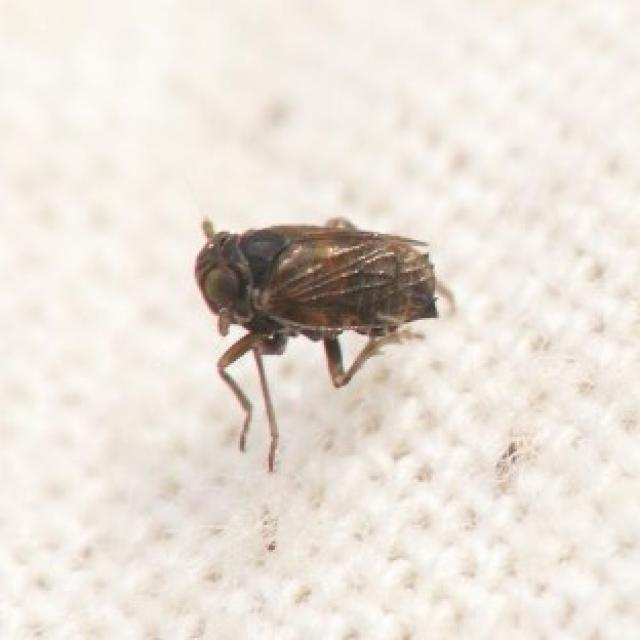brown plant hopper: (195, 217, 451, 468)
